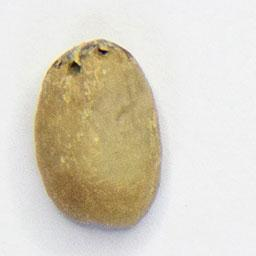defect: (31, 37, 166, 231)
